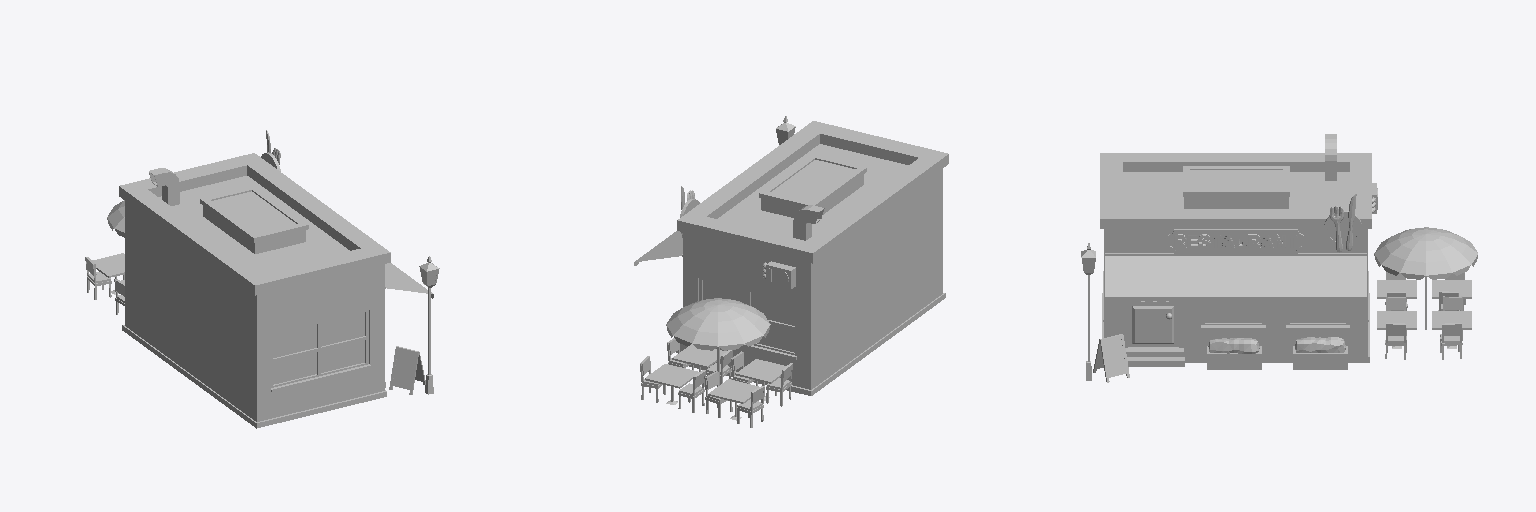
The model's file is restaurante.obj.
The picture shows the model from 3 angles: view 1: azimuth 30°, elevation 25°; view 2: azimuth 150°, elevation 25°; view 3: azimuth 270°, elevation 25°; orthographic projection.
Visible parts, largest first — view 1: RestaurantBuilding; view 2: RestaurantBuilding; view 3: RestaurantBuilding.
Part boxes in pixels (left/top/right/bottom): RestaurantBuilding: left=85, top=130, right=439, bottom=428; RestaurantBuilding: left=634, top=116, right=948, bottom=427; RestaurantBuilding: left=1081, top=134, right=1477, bottom=382.
Size of the model in its own units: 2.85 by 2.57 by 5.38.